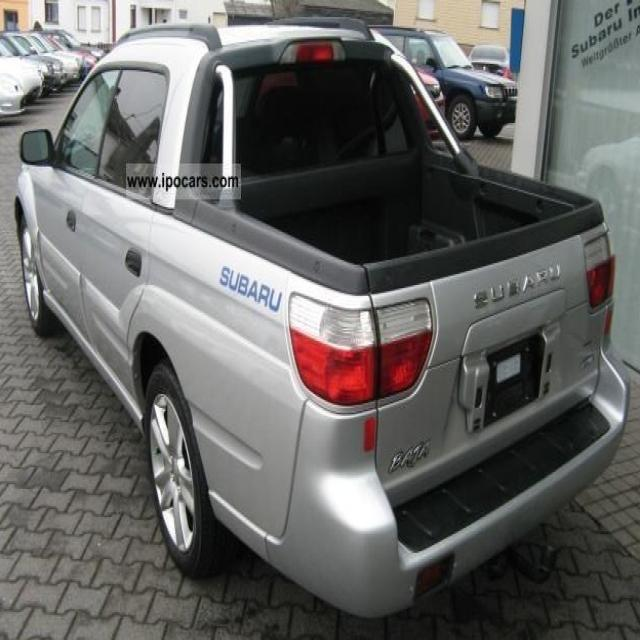CMT: (35, 38, 592, 578)
